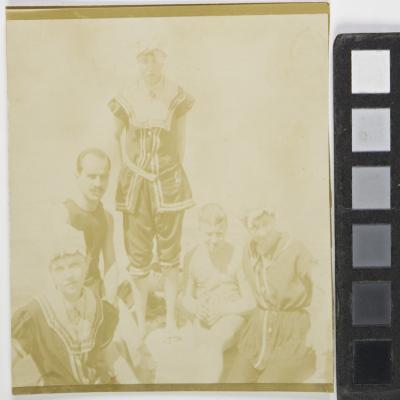photos_negatives: (0, 0, 332, 382)
